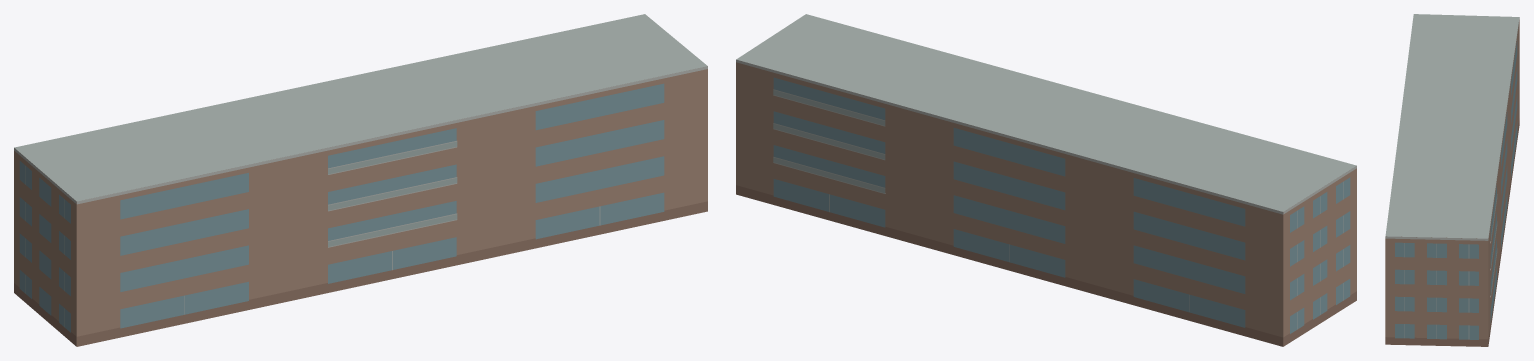
File: survey-upis-32628936.glb
3 renders of one model, left to right at view 1: azimuth 30°, elevation 25°; view 2: azimuth 150°, elevation 25°; view 3: azimuth 270°, elevation 25°, orthographic. The views are drawn at different scales.
Visible parts, largest first — view 1: survey-upis-32628936.tmp; view 2: survey-upis-32628936.tmp; view 3: survey-upis-32628936.tmp.
Part boxes in pixels (<box>): survey-upis-32628936.tmp: <box>14,14,707,346</box>; survey-upis-32628936.tmp: <box>736,14,1356,346</box>; survey-upis-32628936.tmp: <box>1385,14,1519,346</box>.
Bounding box in the file's own units: 54.34 × 12.2 × 13.71.
